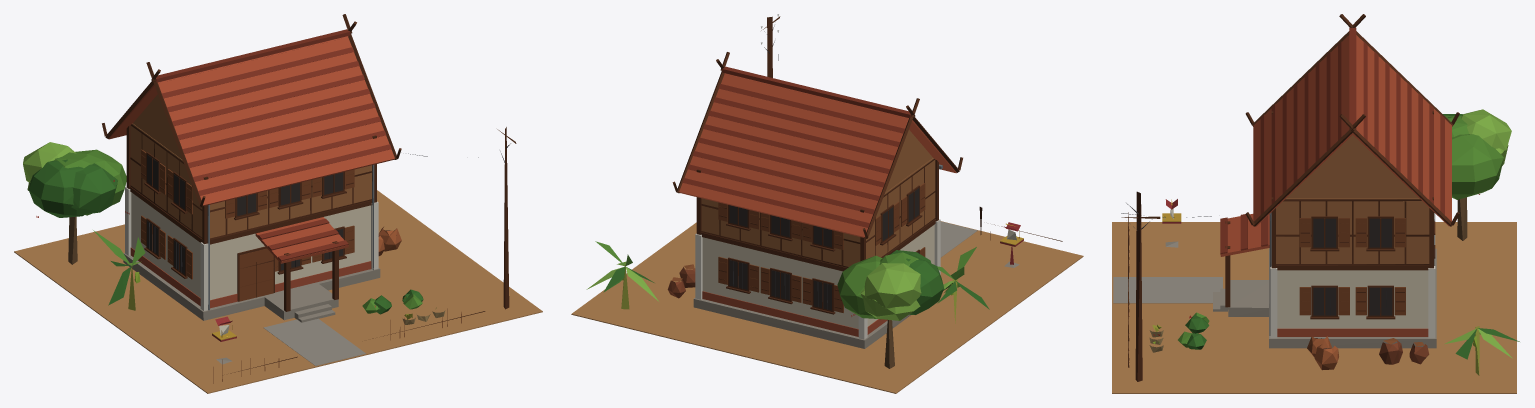
File: home_2.glb
The picture shows the model from 3 angles, left to right: view 1: azimuth 30°, elevation 25°; view 2: azimuth 150°, elevation 25°; view 3: azimuth 270°, elevation 25°; orthographic projection. The views are drawn at different scales.
Parts seen in each view (by area): view 1: body, windows; view 2: body, windows; view 3: body, windows.
Part boxes in pixels (left/top/right/bottom): body: left=14, top=14, right=542, bottom=393; windows: left=147, top=154, right=343, bottom=274; body: left=571, top=14, right=1083, bottom=393; windows: left=729, top=188, right=919, bottom=310; body: left=1112, top=14, right=1519, bottom=393; windows: left=1313, top=218, right=1392, bottom=315.
Size of the model in its own units: 16.44 by 10.48 by 16.05.
